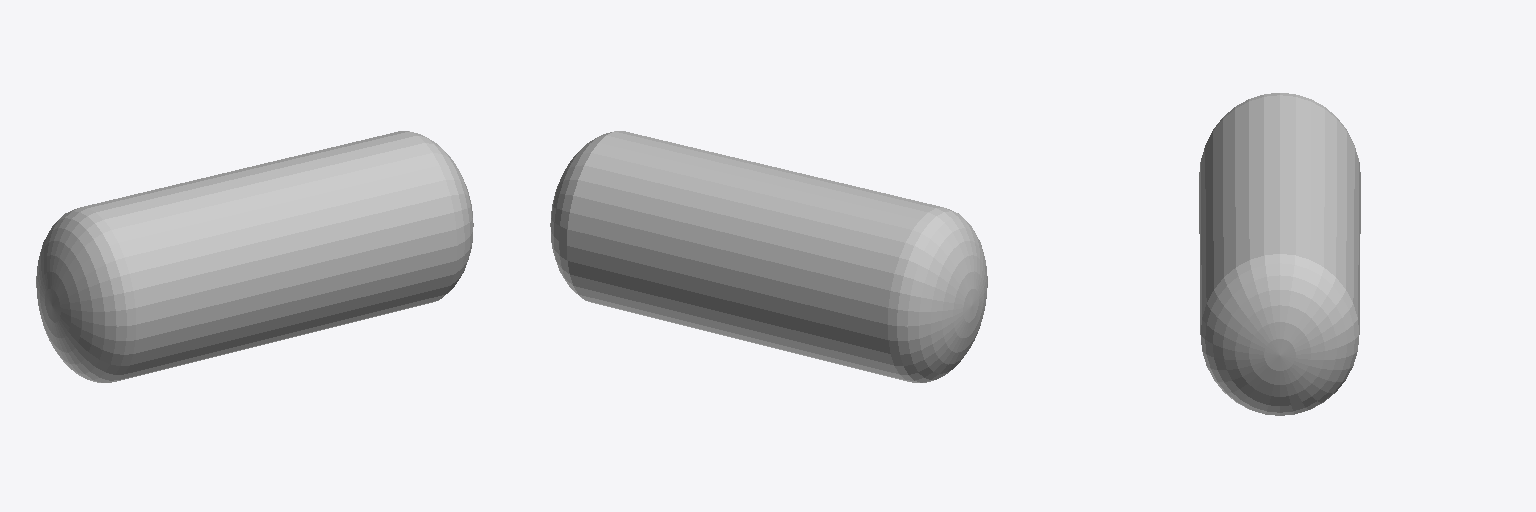
The model's file is bulletWide v0.3.obj.
The picture shows the model from 3 angles: view 1: azimuth 30°, elevation 25°; view 2: azimuth 150°, elevation 25°; view 3: azimuth 270°, elevation 25°; orthographic projection.
Visible parts, largest first — view 1: Sphere; view 2: Sphere; view 3: Sphere.
Part boxes in pixels (x1,y1,x2,y2): Sphere: (36, 131, 473, 382); Sphere: (550, 131, 987, 382); Sphere: (1199, 93, 1360, 415).
Bounding box in the file's own units: 5.81 × 2.25 × 2.